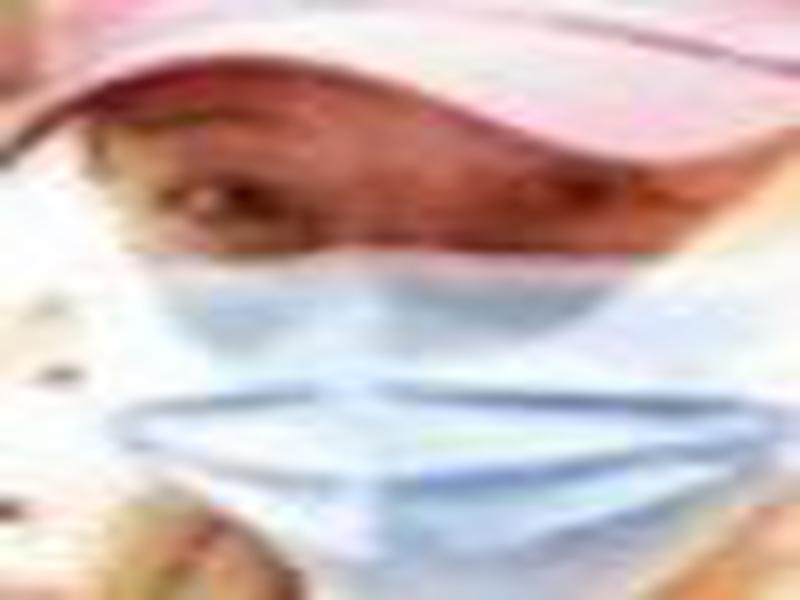with_mask: (64, 59, 800, 600)
